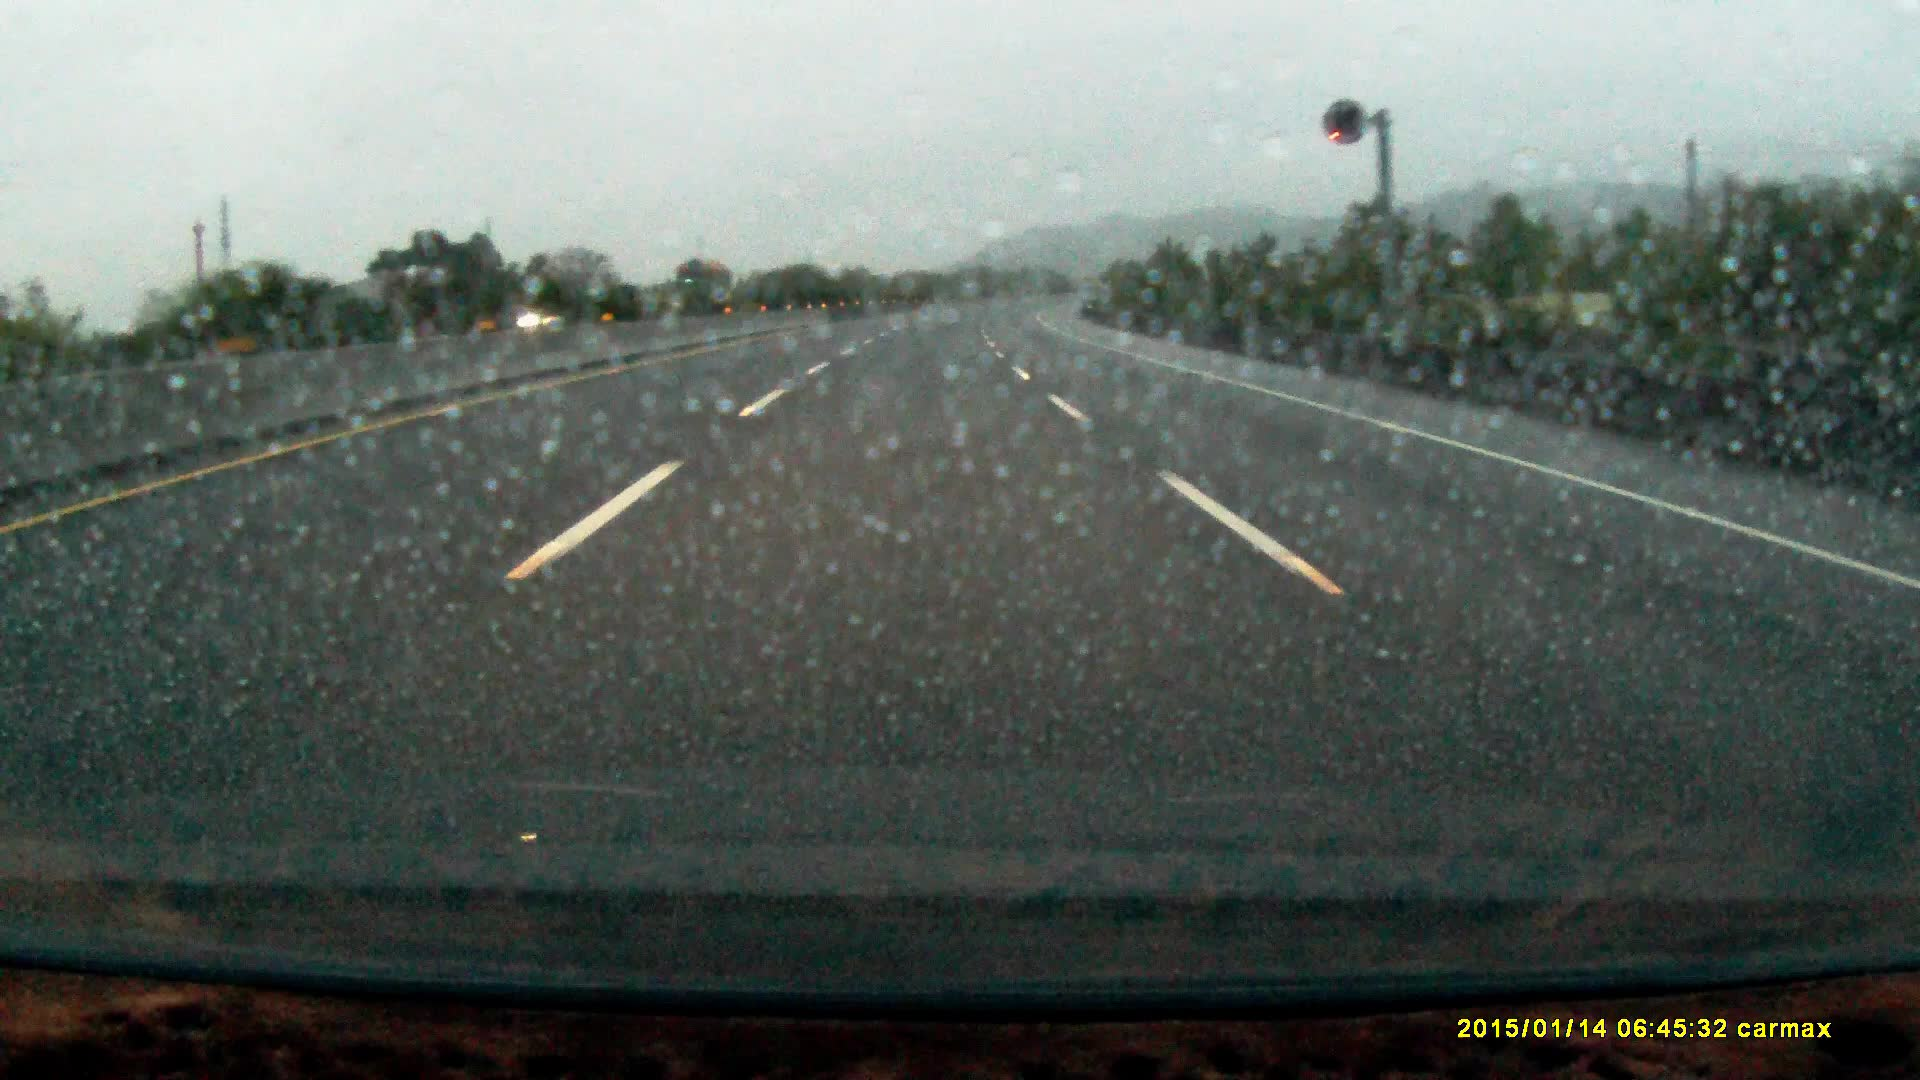vehicle: (667, 260, 733, 315), (520, 301, 589, 328)
